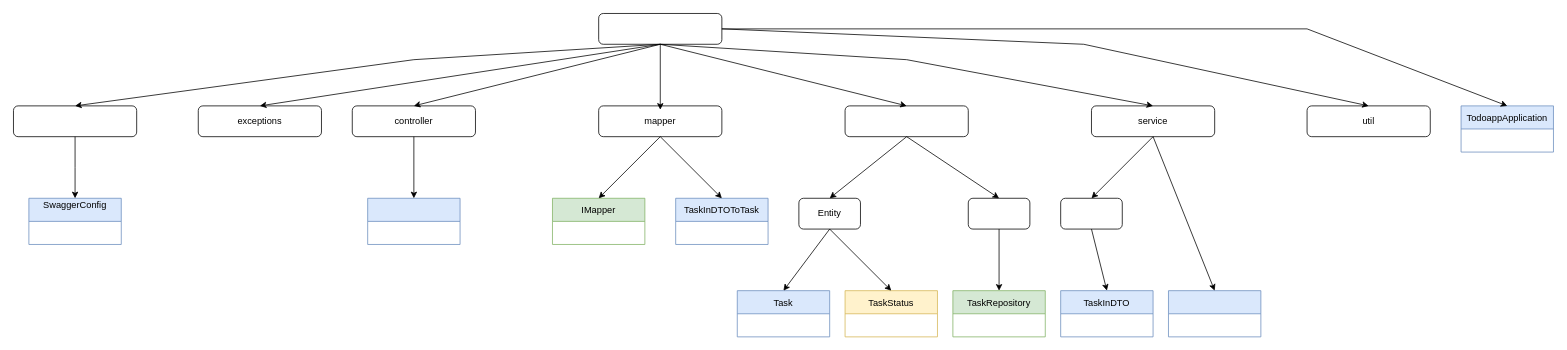
The diagram is 1567 pixels wide and 350 high, and some of its shapes have lost their labels. The centre of each missing label's shape, as x and y in pixels:
com.todoapp.todoapp: point 660,28
context: point 75,121
dto: point 1091,213
persistence: point 906,121
repository: point 999,213
TaskController: point 413,221
TaskService: point 1214,313
